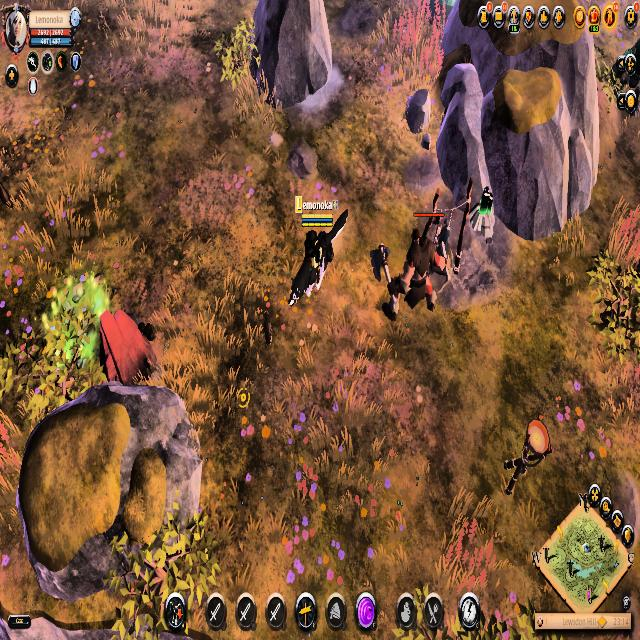ore tier 3: (470, 185, 497, 241)
rock tier 5: (98, 309, 157, 392)
